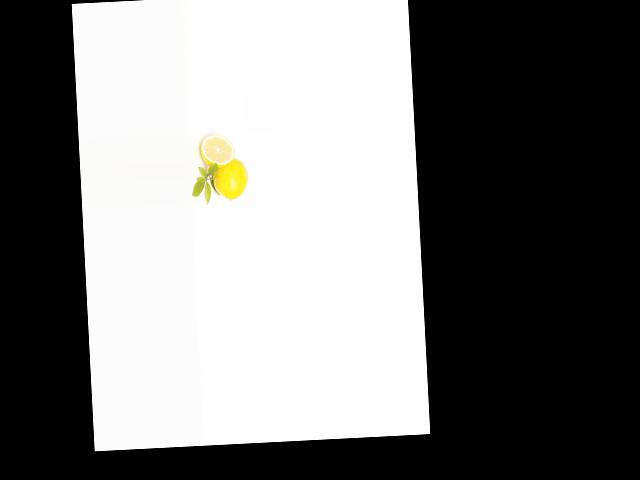lemon: (213, 157, 251, 204)
